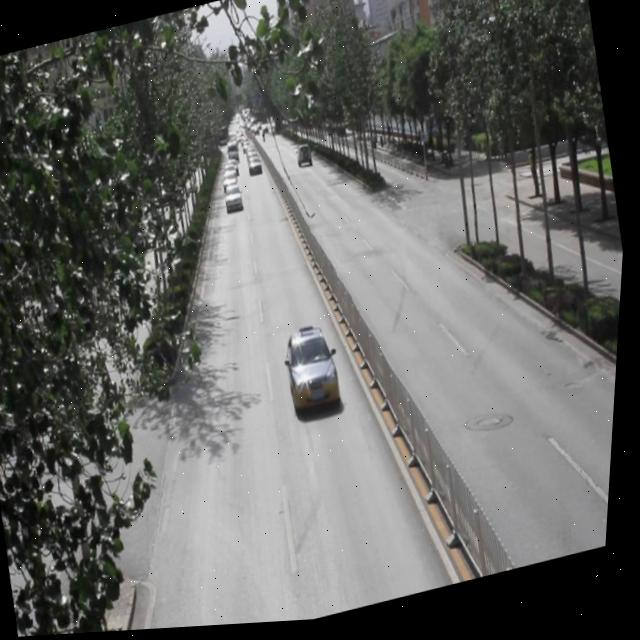car: (283, 327, 350, 424), (224, 186, 246, 215)
